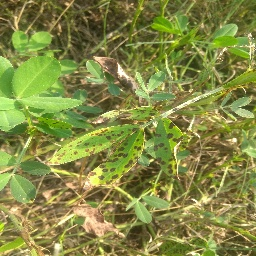GroundNut_Leaf: (49, 126, 142, 186), (14, 55, 64, 95), (156, 119, 184, 179), (20, 97, 83, 110), (7, 175, 36, 202), (212, 23, 239, 49), (146, 68, 170, 93), (140, 193, 172, 210), (160, 241, 193, 255), (19, 161, 48, 174), (84, 59, 103, 78)
